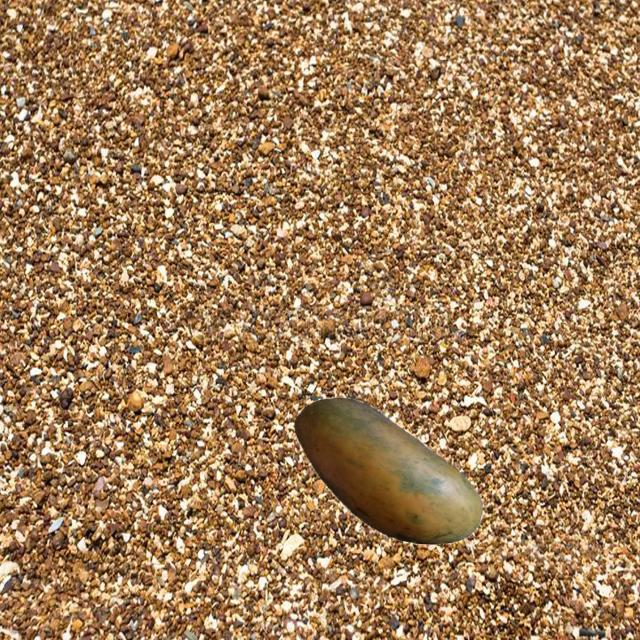Pepaya rippen: (280, 395, 482, 550)
